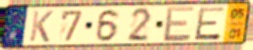2: (126, 7, 154, 43)
6: (95, 8, 122, 43)
7: (60, 9, 83, 43)
E: (162, 5, 196, 43), (193, 6, 227, 42)
K: (28, 9, 55, 44)
